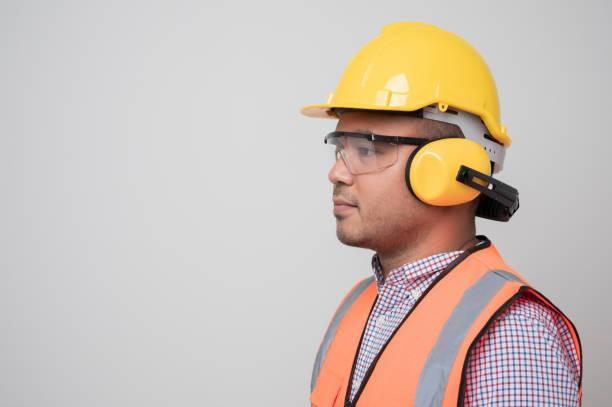goggle: (318, 125, 423, 174)
helmet: (299, 13, 511, 135)
vest: (303, 241, 594, 407)
